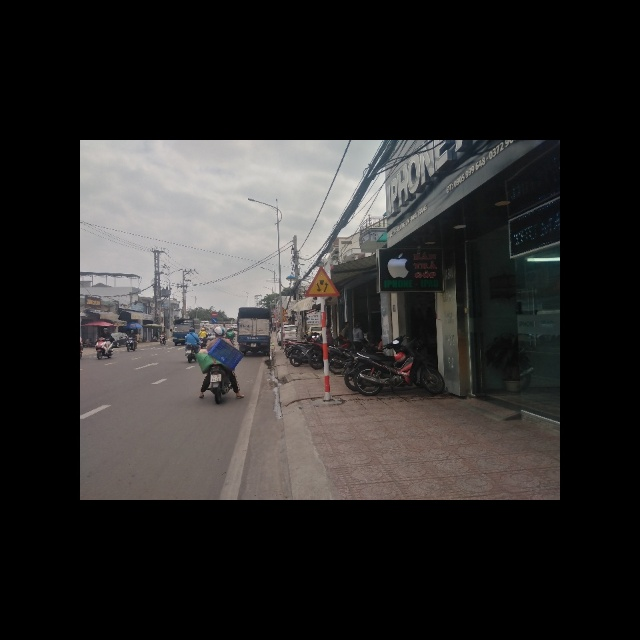Đường đôi: (304, 265, 342, 298)
